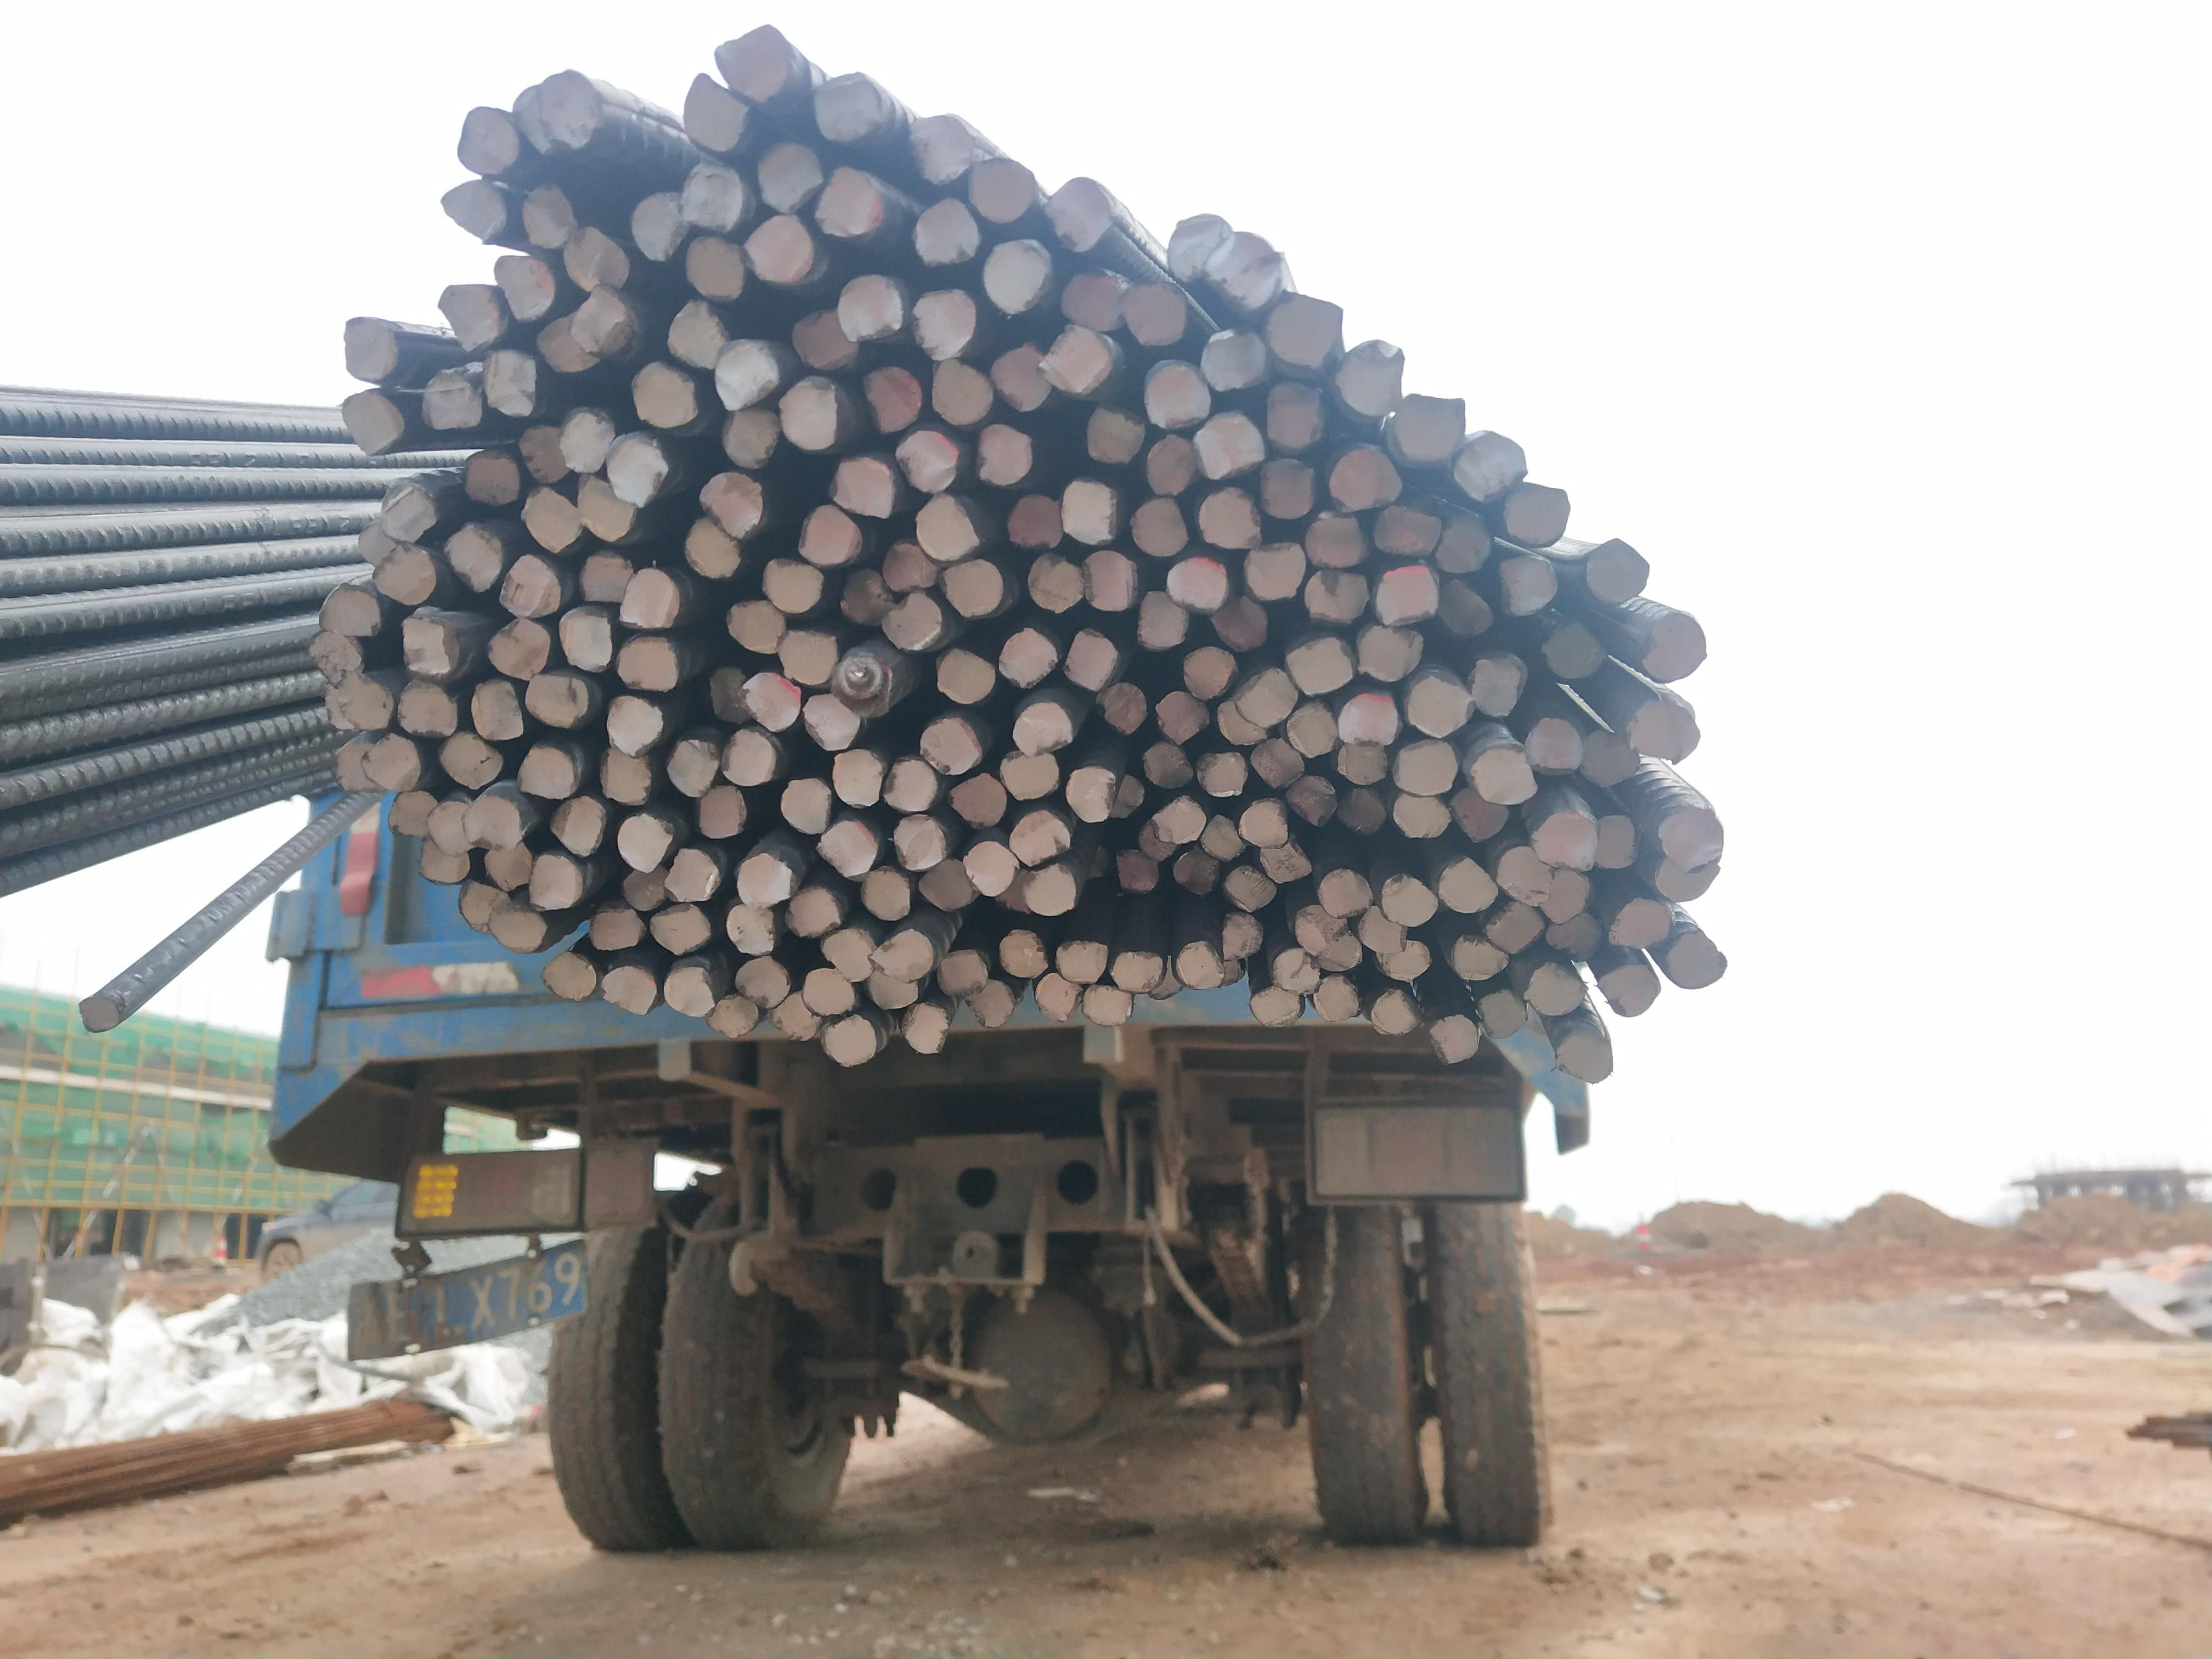rebar: (712, 23, 795, 105), (1204, 230, 1284, 311), (1263, 294, 1346, 368), (1332, 337, 1407, 419), (1450, 432, 1529, 506), (1043, 174, 1116, 252), (981, 238, 1053, 315), (1638, 611, 1710, 686), (682, 73, 752, 153), (540, 64, 604, 150), (813, 166, 888, 239), (743, 213, 817, 285), (814, 72, 885, 146), (904, 111, 974, 188), (910, 286, 978, 362), (1326, 443, 1403, 512), (908, 196, 980, 268), (1193, 410, 1266, 481), (1396, 391, 1468, 462), (753, 141, 827, 211), (1626, 697, 1702, 766), (1039, 325, 1111, 396), (1163, 211, 1233, 284), (629, 361, 703, 430), (967, 155, 1036, 227), (1142, 360, 1212, 432), (837, 274, 909, 342), (605, 432, 671, 507), (454, 106, 523, 177), (1582, 535, 1651, 605), (435, 283, 506, 351), (698, 469, 764, 541), (1262, 379, 1327, 452), (915, 492, 980, 564), (490, 253, 558, 322), (562, 225, 632, 294), (1657, 803, 1724, 873), (369, 542, 440, 609), (929, 355, 995, 427), (440, 177, 509, 246), (713, 342, 781, 410), (1531, 806, 1599, 875), (1200, 325, 1266, 393), (1057, 267, 1129, 330), (1502, 484, 1574, 548), (520, 487, 585, 556), (894, 430, 959, 496), (534, 310, 602, 375), (680, 163, 745, 233), (1541, 617, 1609, 681), (323, 670, 395, 733), (494, 555, 565, 618), (684, 232, 746, 304), (990, 339, 1051, 414), (337, 390, 405, 456), (616, 565, 684, 631), (1121, 280, 1188, 347), (794, 304, 860, 372), (484, 617, 552, 682), (832, 656, 900, 720), (974, 419, 1036, 488), (1470, 744, 1539, 806), (862, 364, 924, 435), (797, 502, 863, 568), (1197, 484, 1262, 551), (1373, 563, 1439, 628), (1406, 675, 1471, 739), (778, 381, 839, 452), (1079, 548, 1141, 616), (1285, 635, 1355, 696), (341, 313, 400, 384), (377, 479, 440, 544), (815, 819, 879, 883), (1236, 667, 1300, 731), (422, 366, 486, 432), (1082, 405, 1148, 466), (918, 717, 986, 777), (444, 524, 503, 594), (484, 346, 539, 420), (882, 590, 944, 653), (665, 303, 727, 369), (577, 477, 637, 543), (1662, 928, 1728, 989), (569, 287, 629, 356), (1357, 625, 1425, 684), (1598, 962, 1665, 1022), (1551, 1026, 1620, 1085), (1301, 568, 1370, 625), (740, 670, 804, 734), (943, 558, 1005, 620), (1524, 716, 1587, 779), (1578, 727, 1640, 789), (558, 410, 620, 475), (525, 670, 589, 731), (462, 793, 527, 854), (828, 460, 894, 521), (1524, 958, 1589, 1019), (759, 555, 826, 616), (995, 629, 1060, 689), (1011, 698, 1076, 757), (1392, 739, 1458, 798), (1060, 478, 1118, 547), (1468, 652, 1526, 720), (523, 181, 579, 251), (1143, 430, 1199, 498), (303, 630, 366, 690), (605, 694, 665, 757), (1129, 496, 1192, 558), (1498, 554, 1559, 617), (616, 812, 675, 876), (1165, 556, 1231, 613), (629, 193, 685, 262), (1302, 514, 1369, 569), (314, 583, 382, 638), (684, 518, 743, 582), (779, 628, 841, 687), (802, 692, 863, 754), (935, 647, 997, 707), (1379, 871, 1442, 931), (397, 680, 461, 738), (1063, 630, 1119, 693), (1008, 810, 1073, 868), (1372, 505, 1444, 556), (437, 733, 504, 790), (723, 410, 782, 470), (453, 877, 513, 935), (1024, 556, 1084, 616), (1437, 577, 1496, 638), (1439, 857, 1499, 916), (1494, 845, 1554, 907), (461, 451, 524, 509), (726, 599, 789, 657), (648, 902, 713, 958), (870, 927, 934, 984), (1244, 545, 1307, 602), (526, 853, 586, 913), (1132, 591, 1192, 650), (732, 953, 792, 1011), (1258, 458, 1316, 520), (1154, 687, 1211, 748), (1283, 698, 1339, 760), (469, 680, 525, 742), (665, 737, 721, 799), (399, 613, 453, 679), (1438, 513, 1493, 579), (614, 640, 681, 692), (1606, 897, 1672, 949), (361, 738, 420, 794), (836, 569, 896, 625), (598, 748, 653, 808), (517, 746, 578, 801), (1000, 748, 1060, 803), (1064, 764, 1119, 825), (73, 986, 133, 1041), (723, 725, 777, 788), (1337, 694, 1401, 747), (507, 83, 552, 156), (820, 926, 878, 983), (1006, 491, 1063, 550), (1212, 596, 1270, 653), (734, 852, 793, 908), (879, 759, 939, 814), (889, 815, 948, 871), (1314, 867, 1375, 922), (665, 847, 721, 904), (920, 856, 978, 911), (963, 839, 1019, 898), (487, 904, 549, 956), (601, 964, 661, 1017), (1247, 737, 1307, 790), (1484, 902, 1544, 956), (1539, 866, 1593, 928), (1447, 934, 1510, 985), (1653, 857, 1723, 904), (514, 425, 569, 482), (1454, 789, 1510, 845), (539, 950, 598, 1005), (821, 1014, 879, 1068), (881, 539, 938, 592), (950, 774, 1008, 827), (1181, 646, 1238, 701), (577, 551, 636, 603), (783, 885, 841, 938), (832, 749, 884, 810), (1392, 791, 1454, 840), (555, 795, 603, 860), (1294, 902, 1350, 956), (384, 790, 440, 841), (662, 964, 715, 1020), (1022, 862, 1079, 916), (1214, 698, 1271, 750), (425, 799, 476, 858), (1150, 792, 1206, 845), (1428, 1012, 1482, 1066), (562, 616, 614, 672), (860, 866, 913, 922), (966, 977, 1018, 1031), (1141, 740, 1196, 791), (1288, 772, 1338, 830), (707, 667, 755, 724), (799, 967, 859, 1017), (330, 735, 379, 797), (723, 902, 777, 956), (1225, 862, 1278, 915), (1475, 988, 1529, 1041), (1110, 946, 1166, 997), (1173, 938, 1223, 994), (780, 777, 830, 836), (902, 1000, 951, 1058), (1544, 915, 1604, 962), (769, 992, 823, 1044), (1198, 808, 1248, 863), (1312, 973, 1362, 1026), (699, 783, 748, 841), (1101, 679, 1148, 738), (1593, 813, 1638, 873), (1170, 849, 1222, 899), (1238, 799, 1291, 850), (999, 927, 1047, 983), (482, 844, 533, 894), (1032, 973, 1082, 1024), (1055, 940, 1108, 989), (1337, 787, 1390, 837), (1244, 986, 1305, 1028), (1359, 902, 1407, 955), (1082, 984, 1136, 1030), (1270, 947, 1323, 995), (1377, 938, 1432, 985), (938, 946, 989, 996), (1370, 986, 1419, 1037), (622, 867, 670, 915), (587, 909, 646, 950), (420, 842, 472, 887), (1337, 741, 1390, 786), (1200, 751, 1249, 798), (709, 995, 760, 1040), (1218, 912, 1263, 962), (1260, 841, 1314, 885), (867, 969, 921, 1011), (354, 524, 399, 572), (1116, 846, 1160, 893), (1318, 933, 1365, 975), (1110, 771, 1147, 823), (1150, 956, 1187, 1005), (1217, 956, 1244, 990)
